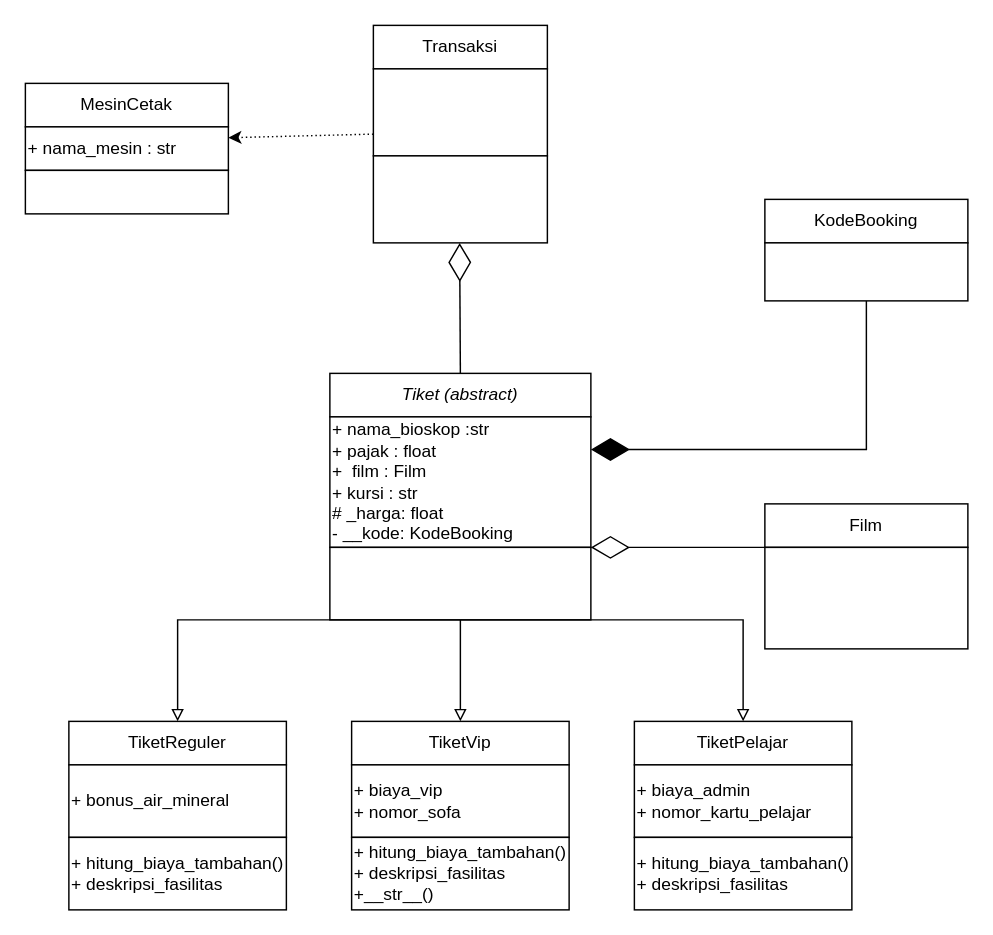
Some shapes in this 993 by 935 pixel diagram are drawn without their labels. The shapes that lost their labels are listed below. From the top down, each one's centre as x and y in pixels, then its label:
[459,111]: + member - __daftar_tiket: list + diskon_member
[126,191]: + kirim(pesan)
[459,198]: + tambah(tiket) + bayar() + struk() + cetak_struk_fisik
[865,271]: + kode : str
[459,583]: + hitung_biaya()... + deskripsi_fasilitas + harga (property)
[865,597]: + judul: str + genre : str + durasi : int
